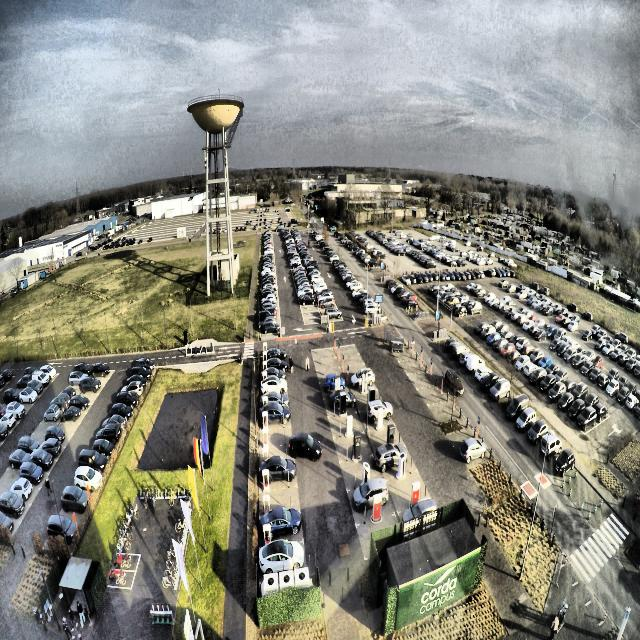cabinet: (264, 567, 309, 589)
car: (258, 539, 306, 577), (258, 503, 301, 544), (288, 431, 325, 465), (260, 457, 297, 482), (259, 401, 291, 429), (258, 388, 290, 410), (260, 376, 287, 397), (263, 358, 289, 373), (259, 367, 287, 380), (265, 347, 288, 362)
parking: (259, 541, 307, 584), (260, 511, 303, 549), (259, 485, 300, 517), (260, 463, 298, 491), (259, 444, 295, 470), (259, 427, 292, 448), (260, 411, 290, 432), (260, 381, 287, 401), (260, 397, 289, 414), (260, 370, 286, 387), (260, 352, 284, 365), (260, 361, 285, 372)
supercharger: (262, 525, 272, 549), (263, 495, 271, 518), (262, 448, 269, 464), (262, 430, 269, 446), (263, 469, 269, 485), (263, 413, 268, 430), (263, 398, 268, 413), (263, 384, 268, 398), (263, 372, 267, 383), (263, 352, 267, 362), (263, 361, 267, 370), (263, 343, 267, 352)
